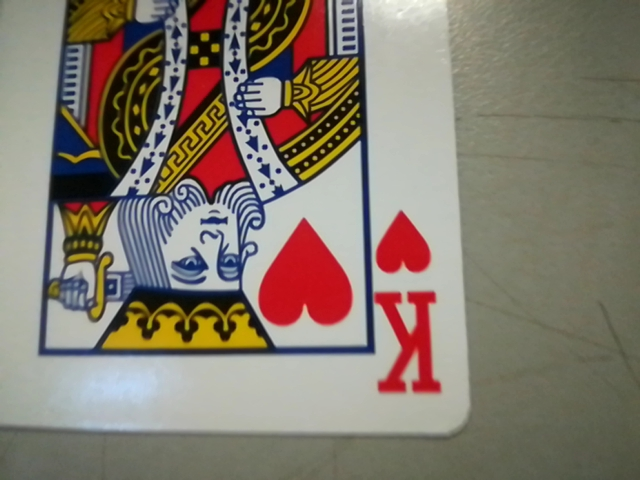hx k: (361, 197, 460, 407)
